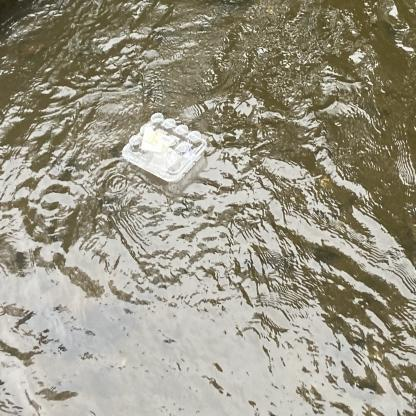trash: (118, 105, 210, 191)
